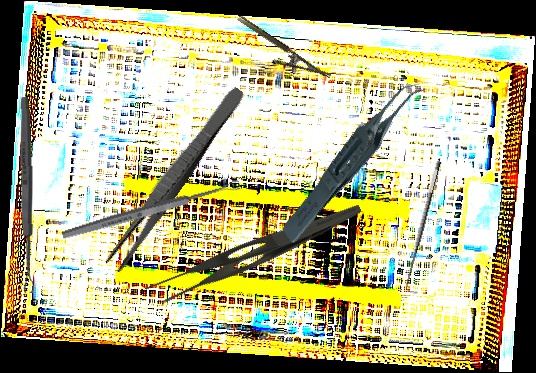Dressing Forceps: (143, 181, 363, 317), (101, 81, 248, 275)
Hook Surgical: (400, 160, 452, 295)
Needle Holder: (228, 13, 332, 94)
Surgical Spoon: (60, 178, 242, 242), (18, 96, 35, 294)
Tissue Forceps: (256, 77, 454, 245)
